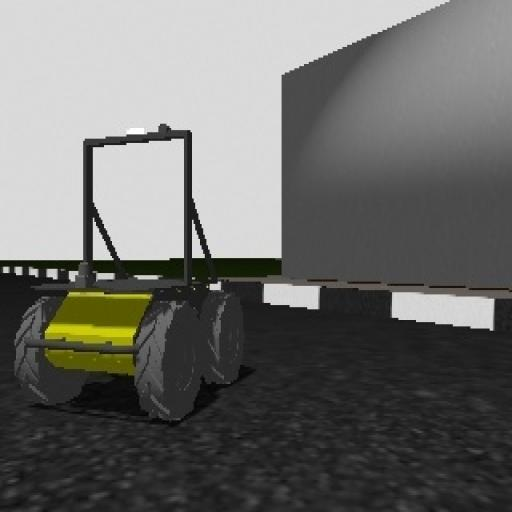huskya200: (9, 114, 251, 450)
